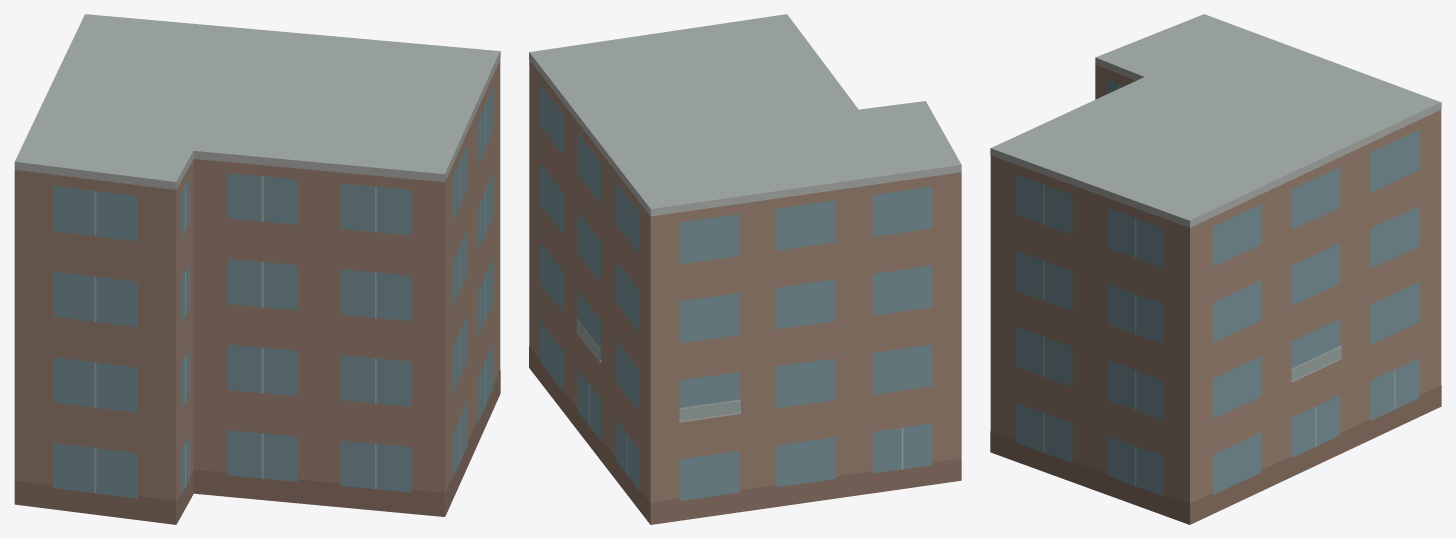
Rendered from survey-upis-32529011.glb.
The picture shows the model from 3 angles, left to right: view 1: azimuth 30°, elevation 25°; view 2: azimuth 150°, elevation 25°; view 3: azimuth 270°, elevation 25°; orthographic projection. The views are drawn at different scales.
Visible parts, largest first — view 1: survey-upis-32529011.tmp; view 2: survey-upis-32529011.tmp; view 3: survey-upis-32529011.tmp.
Boxes of the visible parts, x1,y1,x2,y2 form: survey-upis-32529011.tmp: [14, 14, 500, 524]; survey-upis-32529011.tmp: [529, 14, 961, 524]; survey-upis-32529011.tmp: [990, 14, 1441, 524].
Bounding box in the file's own units: 15.25 × 10.45 × 14.05.
